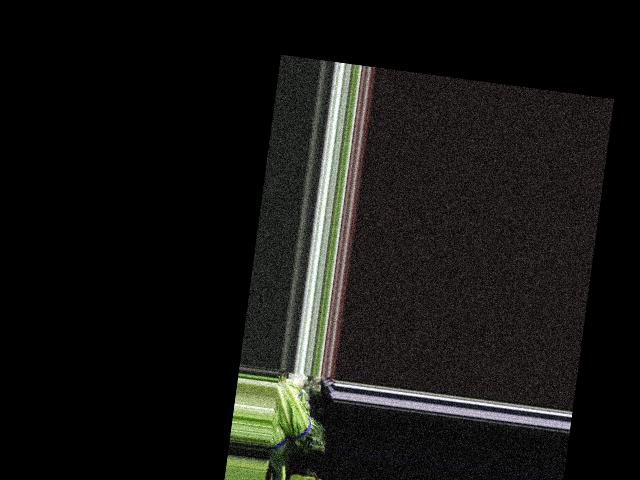lettuce: (268, 385, 328, 455)
